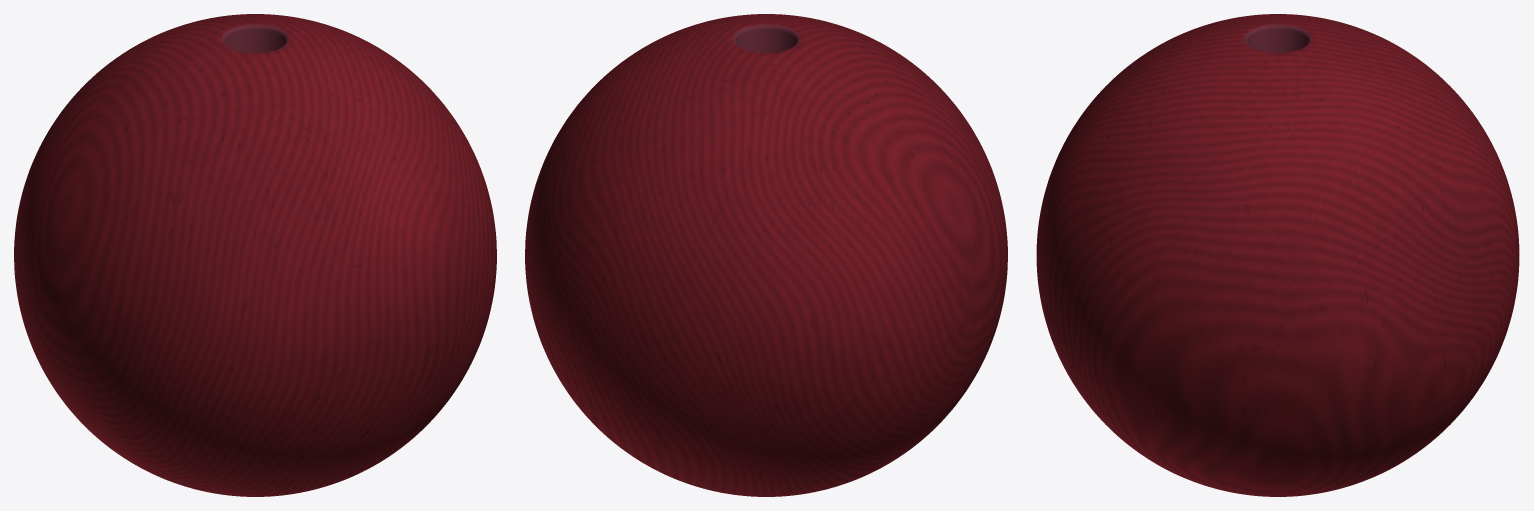
Rendered from blood-sandalwood-8mm.glb.
The picture shows the model from 3 angles, left to right: view 1: azimuth 30°, elevation 25°; view 2: azimuth 150°, elevation 25°; view 3: azimuth 270°, elevation 25°; orthographic projection.
Visible parts, largest first — view 1: blood-sandalwood; view 2: blood-sandalwood; view 3: blood-sandalwood.
Boxes of the visible parts, <box> form: blood-sandalwood: <box>14,14,496,496</box>; blood-sandalwood: <box>525,14,1007,496</box>; blood-sandalwood: <box>1036,14,1519,496</box>.
Size of the model in its own units: 0.008 by 0.00792 by 0.008.
2 materials, 1 textured.
